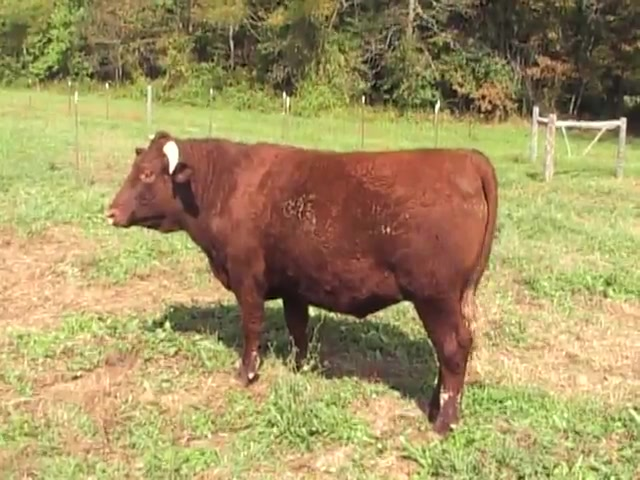cow: (108, 131, 500, 437)
